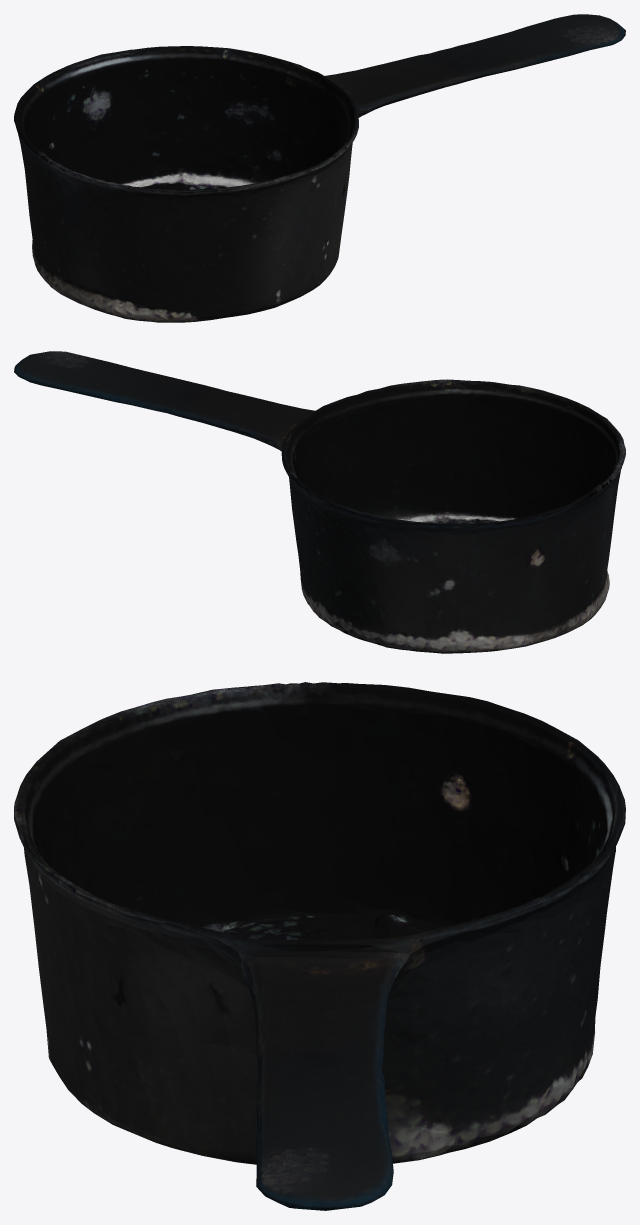
Rendered from scoop.glb.
The picture shows the model from 3 angles, top to bottom: view 1: azimuth 30°, elevation 25°; view 2: azimuth 150°, elevation 25°; view 3: azimuth 270°, elevation 25°; orthographic projection. The views are drawn at different scales.
Parts seen in each view (by area): view 1: world; view 2: world; view 3: world.
Part boxes in pixels (x1,y1,x2,y2): world: (14,14,625,322); world: (14,351,625,653); world: (14,682,625,1210).
Size of the model in its own units: 1 by 0.2351 by 0.5157.
1 material, 1 textured.
